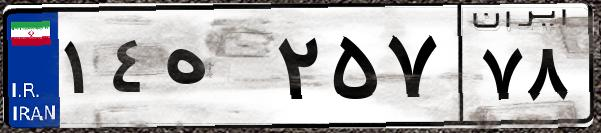1: (57, 26, 110, 100)
2: (270, 28, 330, 110)
4: (110, 28, 158, 98)
5: (330, 28, 385, 110)
7: (385, 28, 445, 110), (475, 38, 525, 113)
8: (525, 38, 570, 115)
ه: (158, 20, 270, 120)
